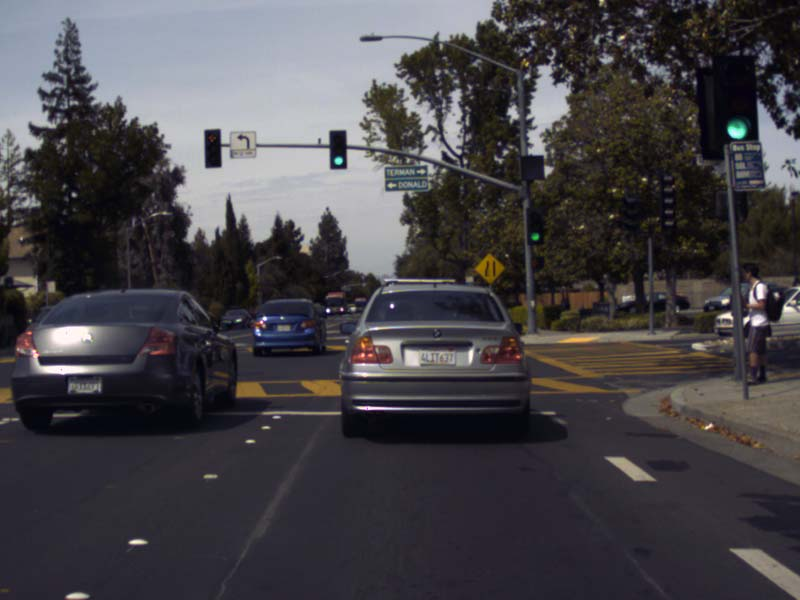Green: (714, 56, 757, 154), (329, 130, 346, 168), (526, 208, 543, 243)
Red: (204, 129, 220, 167)
